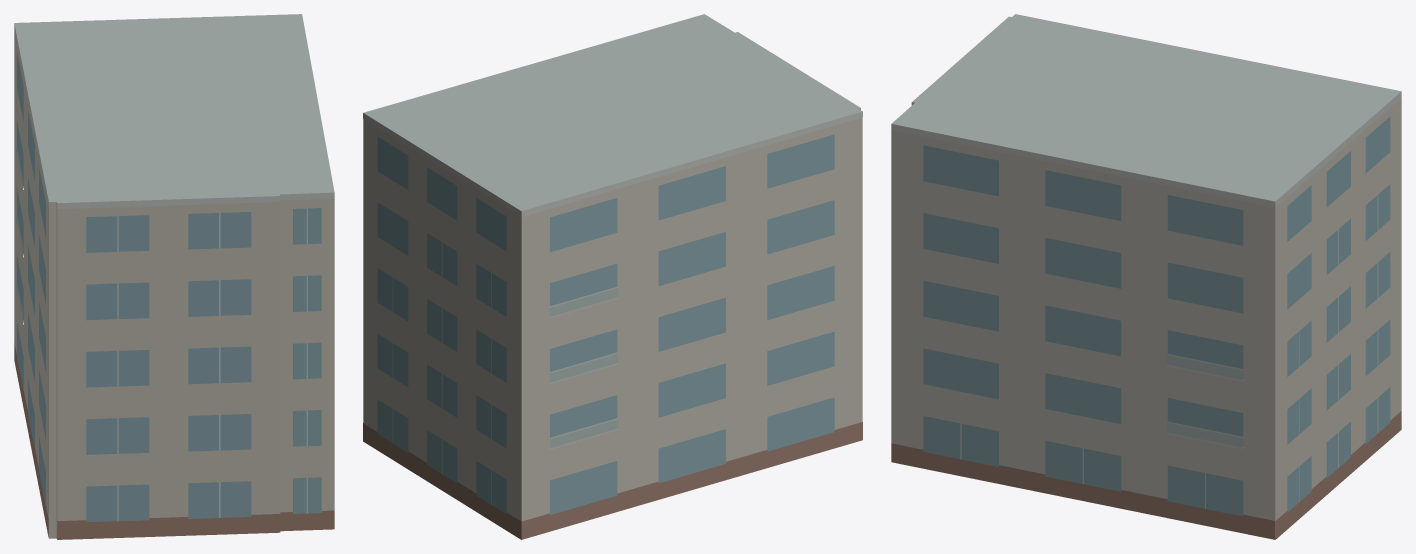
Rendered from survey-upis-32654331.glb.
3 views of the same model, side by side, from view 1: azimuth 30°, elevation 25°; view 2: azimuth 150°, elevation 25°; view 3: azimuth 270°, elevation 25° (orthographic). The views are drawn at different scales.
Parts seen in each view (by area): view 1: survey-upis-32654331.tmp; view 2: survey-upis-32654331.tmp; view 3: survey-upis-32654331.tmp.
Part boxes in pixels (x1,y1,x2,y2): survey-upis-32654331.tmp: [14, 14, 334, 539]; survey-upis-32654331.tmp: [363, 14, 862, 539]; survey-upis-32654331.tmp: [891, 14, 1401, 539].
Size of the model in its own units: 16.17 by 13.59 by 18.59.
